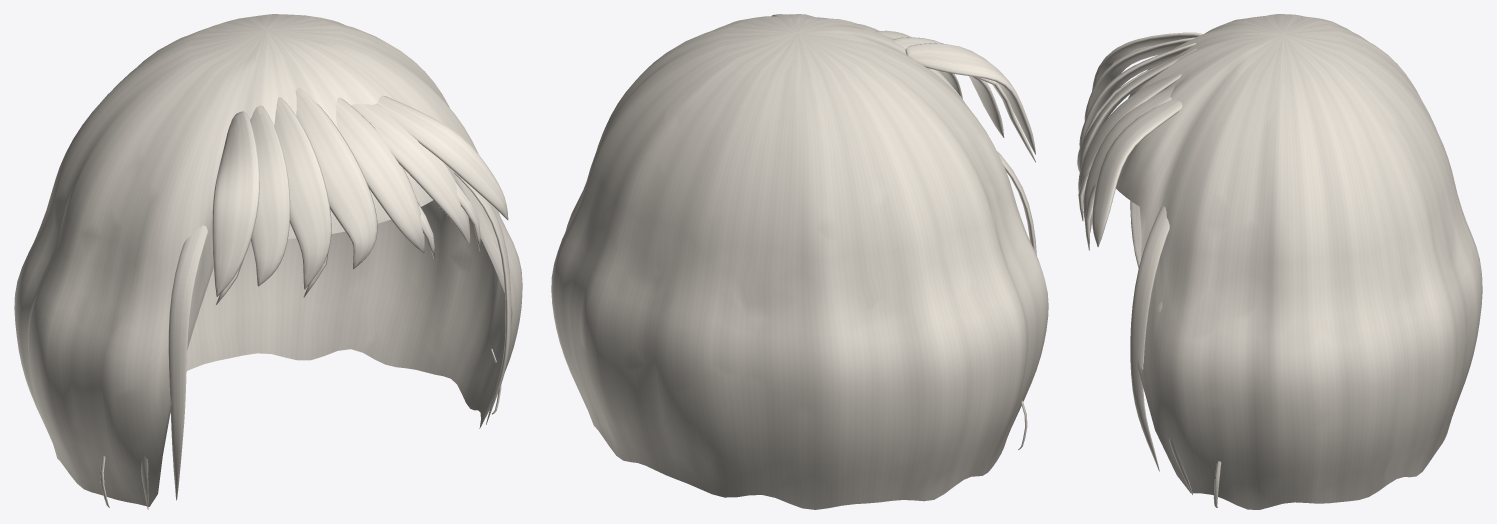
File: short-bob-v2.glb
3 views of the same model, side by side, from view 1: azimuth 30°, elevation 25°; view 2: azimuth 150°, elevation 25°; view 3: azimuth 270°, elevation 25° (orthographic). The views are drawn at different scales.
Parts seen in each view (by area): view 1: Approved bob remaster V2; view 2: Approved bob remaster V2; view 3: Approved bob remaster V2.
Boxes of the visible parts, <box> form: Approved bob remaster V2: <box>14,14,522,509</box>; Approved bob remaster V2: <box>551,14,1048,509</box>; Approved bob remaster V2: <box>1077,14,1482,509</box>.
Size of the model in its own units: 1.11 by 0.9582 by 0.903.
Materials: 1 (1 with a texture image).
